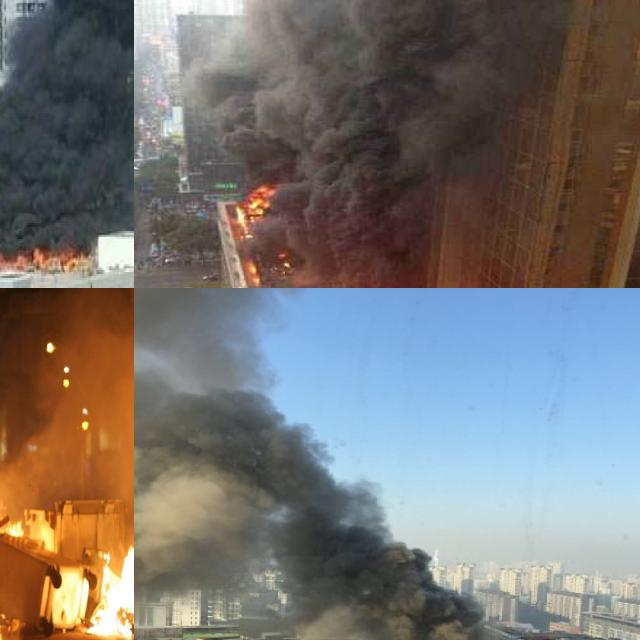fire: (0, 213, 98, 274), (230, 181, 280, 235)
smoke: (134, 288, 489, 640), (186, 0, 566, 288), (0, 0, 134, 246), (0, 305, 134, 511)
